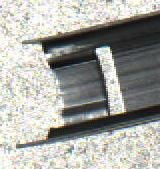press: (17, 16, 149, 152)
